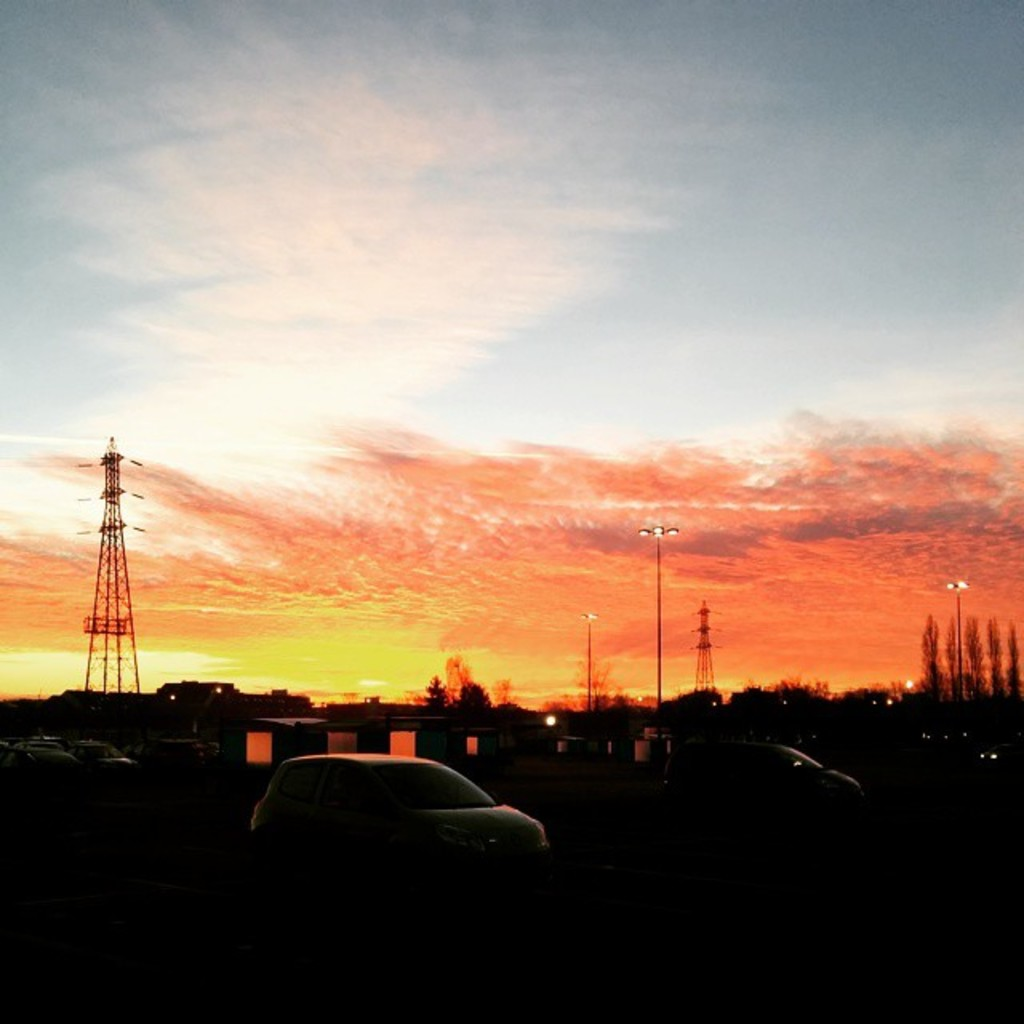Car: (248, 740, 553, 873), (668, 739, 864, 812), (28, 728, 137, 775), (0, 734, 71, 788)
